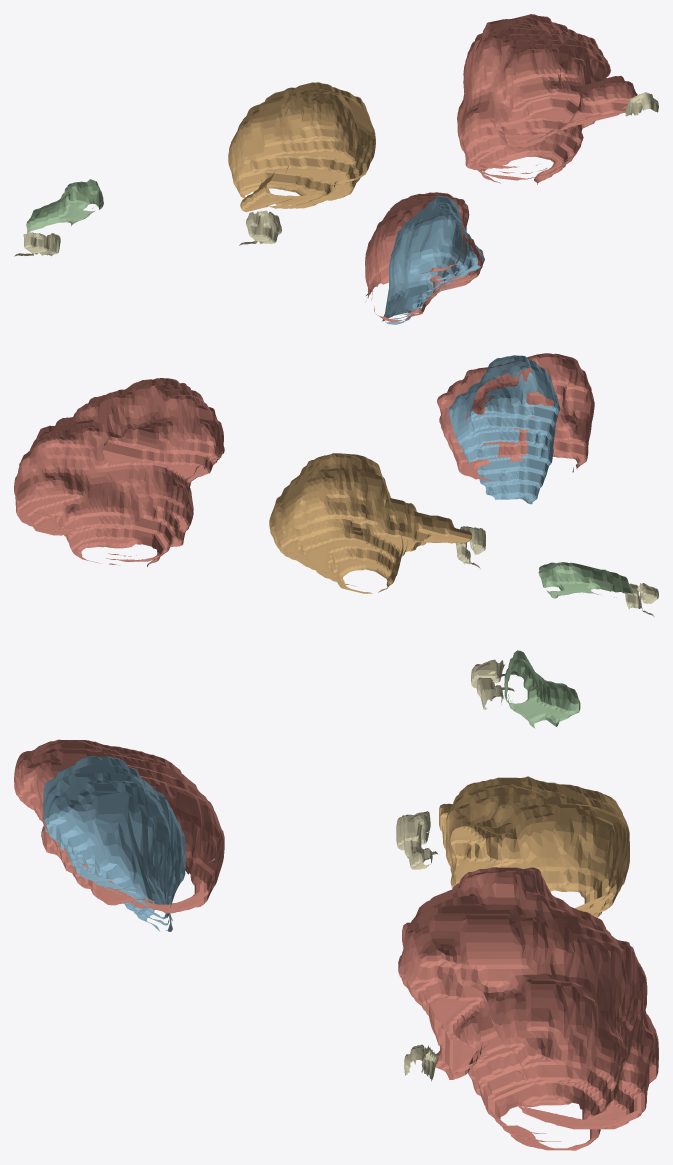
Rendered from case_vestibular_schwannoma.glb.
3 renders of one model, top to bottom at view 1: azimuth 30°, elevation 25°; view 2: azimuth 150°, elevation 25°; view 3: azimuth 270°, elevation 25°, orthographic. The views are drawn at different scales.
Parts seen in each view (by area): view 1: Vestibular schwannoma — Large (7.7 mL) — brainstem contact (, Vestibular schwannoma — Medium (3.7 mL) — CPA extension (VS-, Interval growth at 2017 (VS-SEG-096), Interval growth at 2018 (VS-SEG-096), Vestibular schwannoma — Small (0.2 mL) — intracanalicular (V, Cochlea (VS-SEG-199), Cochlea (VS-SEG-101), Cochlea (VS-SEG-030); view 2: Vestibular schwannoma — Large (7.7 mL) — brainstem contact (, Vestibular schwannoma — Medium (3.7 mL) — CPA extension (VS-, Interval growth at 2017 (VS-SEG-096), Interval growth at 2018 (VS-SEG-096), Vestibular schwannoma — Small (0.2 mL) — intracanalicular (V, Cochlea (VS-SEG-199), Cochlea (VS-SEG-101); view 3: Vestibular schwannoma — Large (7.7 mL) — brainstem contact (, Vestibular schwannoma — Medium (3.7 mL) — CPA extension (VS-, Interval growth at 2017 (VS-SEG-096), Interval growth at 2018 (VS-SEG-096), Vestibular schwannoma — Small (0.2 mL) — intracanalicular (V, Cochlea (VS-SEG-199), Cochlea (VS-SEG-101), Cochlea (VS-SEG-030).
Boxes of the visible parts, x1=… form: Vestibular schwannoma — Large (7.7 mL) — brainstem contact (: x1=457, y1=14, x2=637, y2=184; Vestibular schwannoma — Medium (3.7 mL) — CPA extension (VS-: x1=228, y1=82, x2=375, y2=212; Interval growth at 2017 (VS-SEG-096): x1=382, y1=196, x2=484, y2=324; Interval growth at 2018 (VS-SEG-096): x1=365, y1=192, x2=483, y2=322; Vestibular schwannoma — Small (0.2 mL) — intracanalicular (V: x1=26, y1=179, x2=103, y2=233; Cochlea (VS-SEG-199): x1=239, y1=210, x2=281, y2=245; Cochlea (VS-SEG-101): x1=14, y1=231, x2=60, y2=256; Cochlea (VS-SEG-030): x1=625, y1=92, x2=658, y2=116; Vestibular schwannoma — Large (7.7 mL) — brainstem contact (: x1=14, y1=378, x2=224, y2=566; Vestibular schwannoma — Medium (3.7 mL) — CPA extension (VS-: x1=269, y1=453, x2=472, y2=593; Interval growth at 2017 (VS-SEG-096): x1=448, y1=355, x2=560, y2=504; Interval growth at 2018 (VS-SEG-096): x1=437, y1=353, x2=594, y2=480; Vestibular schwannoma — Small (0.2 mL) — intracanalicular (V: x1=538, y1=562, x2=636, y2=598; Cochlea (VS-SEG-199): x1=455, y1=526, x2=485, y2=568; Cochlea (VS-SEG-101): x1=625, y1=583, x2=658, y2=617; Vestibular schwannoma — Large (7.7 mL) — brainstem contact (: x1=398, y1=867, x2=658, y2=1150; Vestibular schwannoma — Medium (3.7 mL) — CPA extension (VS-: x1=439, y1=776, x2=629, y2=917; Interval growth at 2017 (VS-SEG-096): x1=43, y1=756, x2=185, y2=931; Interval growth at 2018 (VS-SEG-096): x1=14, y1=739, x2=224, y2=913; Vestibular schwannoma — Small (0.2 mL) — intracanalicular (V: x1=497, y1=650, x2=580, y2=728; Cochlea (VS-SEG-199): x1=396, y1=811, x2=437, y2=869; Cochlea (VS-SEG-101): x1=471, y1=659, x2=514, y2=709; Cochlea (VS-SEG-030): x1=404, y1=1044, x2=438, y2=1081.
Bounding box in the file's own units: 105 × 26.69 × 67.22.
